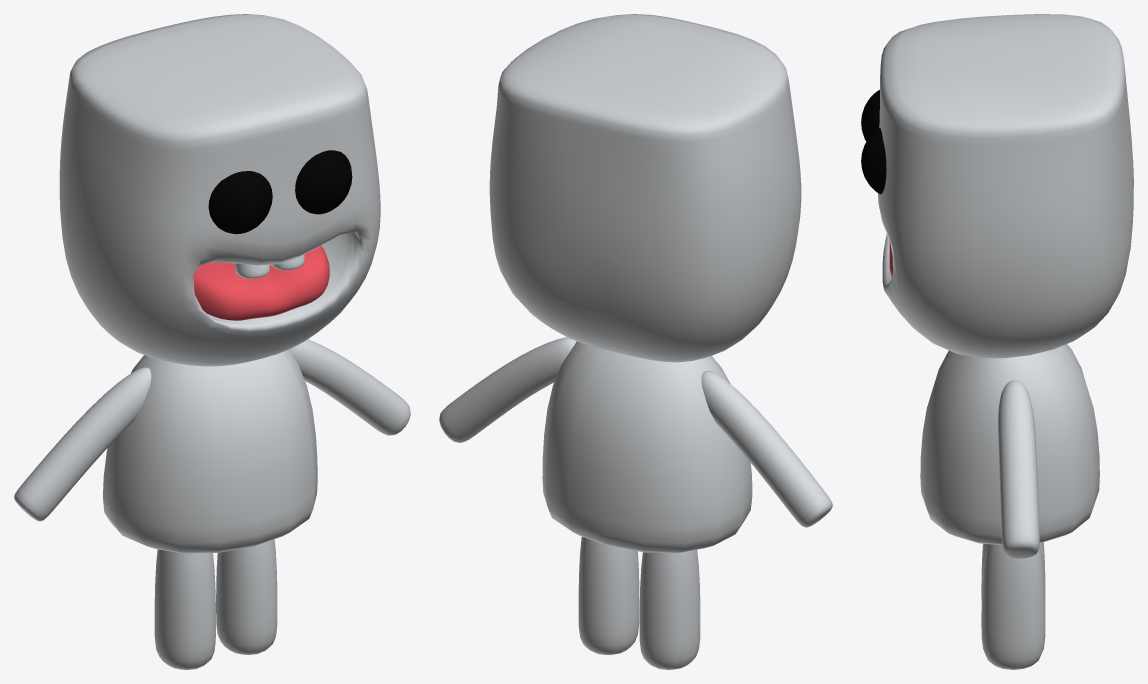
The model's file is lulu.fbx.
The picture shows the model from 3 angles, left to right: view 1: azimuth 30°, elevation 25°; view 2: azimuth 150°, elevation 25°; view 3: azimuth 270°, elevation 25°; orthographic projection.
Parts seen in each view (by area): view 1: Cube, Cube.002, Cube.004, Cube.003, Cube.001, Sphere; view 2: Cube, Cube.002, Cube.004, Cube.003; view 3: Cube, Cube.002, Cube.004, Cube.003, Sphere.
Boxes of the visible parts, left/top/right/bottom form: Cube: left=59, top=14, right=380, bottom=366; Cube.002: left=103, top=349, right=317, bottom=553; Cube.004: left=154, top=539, right=277, bottom=669; Cube.003: left=14, top=339, right=410, bottom=521; Cube.001: left=193, top=245, right=329, bottom=320; Sphere: left=208, top=150, right=352, bottom=234; Cube: left=489, top=14, right=801, bottom=362; Cube.002: left=542, top=341, right=752, bottom=553; Cube.004: left=578, top=536, right=700, bottom=669; Cube.003: left=439, top=337, right=832, bottom=527; Cube: left=878, top=14, right=1133, bottom=358; Cube.002: left=920, top=344, right=1099, bottom=545; Cube.004: left=981, top=542, right=1045, bottom=669; Cube.003: left=998, top=380, right=1039, bottom=558; Sphere: left=861, top=90, right=886, bottom=194.
Size of the model in its own units: 255 by 373 by 156.
